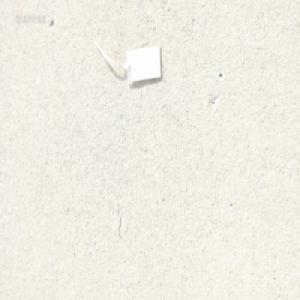LuggageTag: (90, 42, 163, 88)
